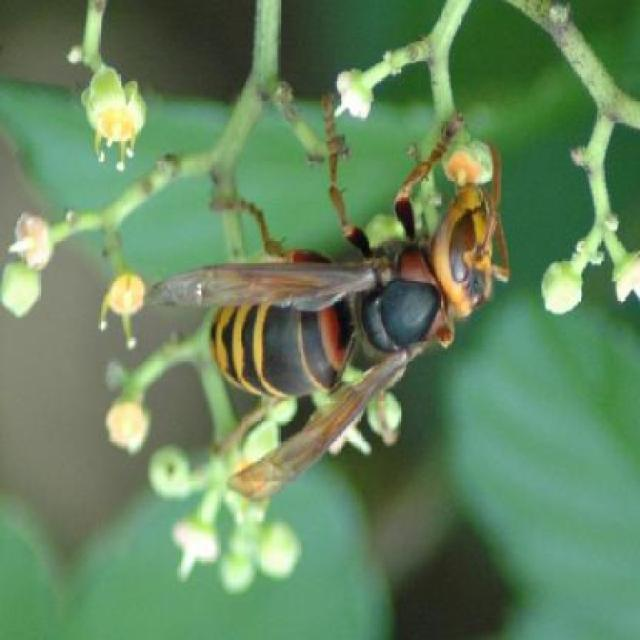Wasp: (176, 83, 505, 508)
